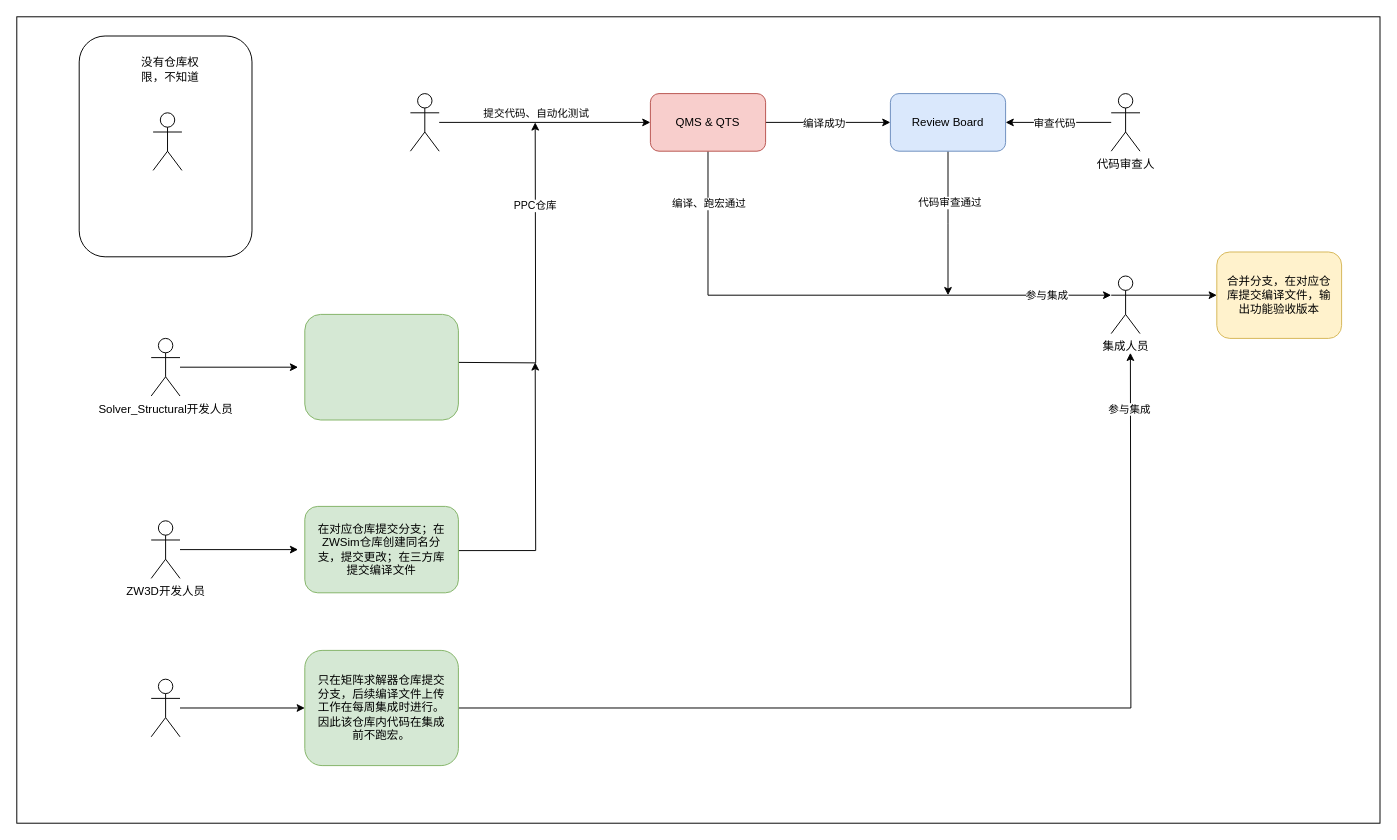
The diagram is 1397 pixels wide and 840 high, and some of its shapes have lost their labels. The shapes that lost their labels are listed below. From the top down, each one's centre as x and y in pixels, then its label:
the point at 167,141: 电磁开发人员
the point at 424,122: ZWSim开发人员
the point at 381,366: 创建结构求解器仓库分支；创建ZWSim仓库分支；本地编译所有仓库，并在3rd提交编译文件
the point at 165,707: Solver_Matrix开发人员
